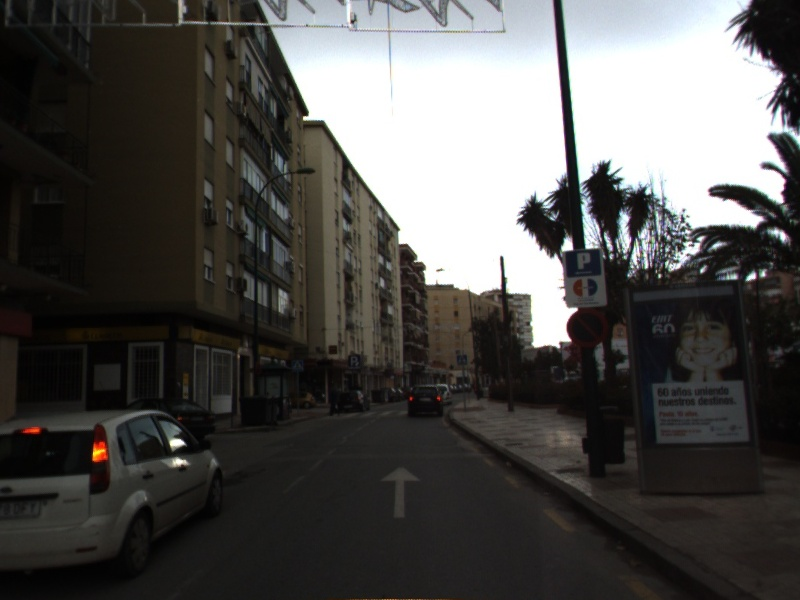STRAIGHT: (379, 464, 423, 519)
